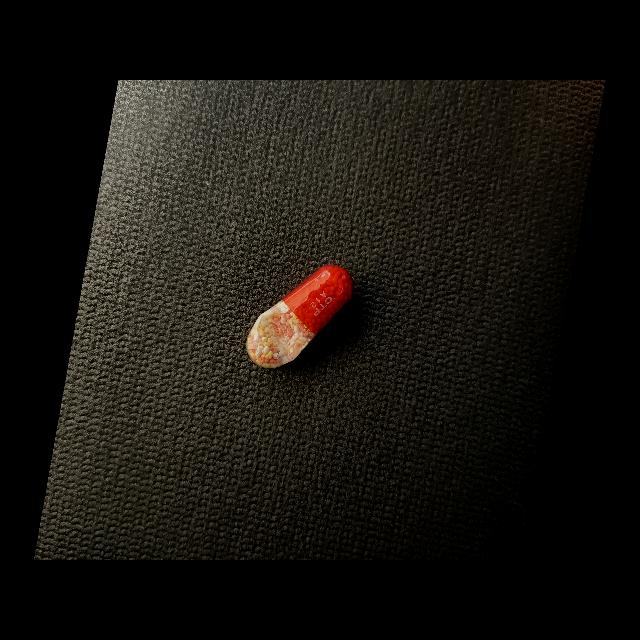Defective Capsule: (246, 265, 354, 368)
